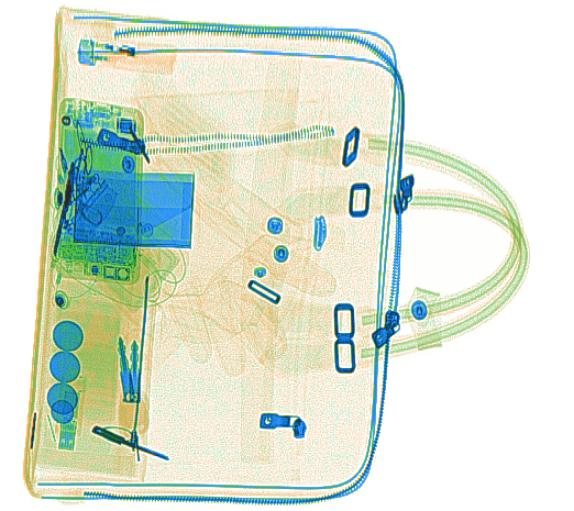USBFlashDisk: (52, 390, 81, 452)
lighter: (74, 37, 179, 74)
